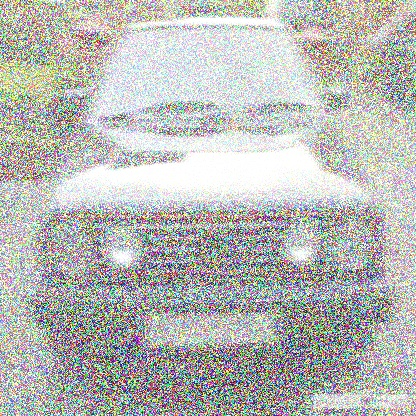Vehicle: (26, 18, 398, 369)
